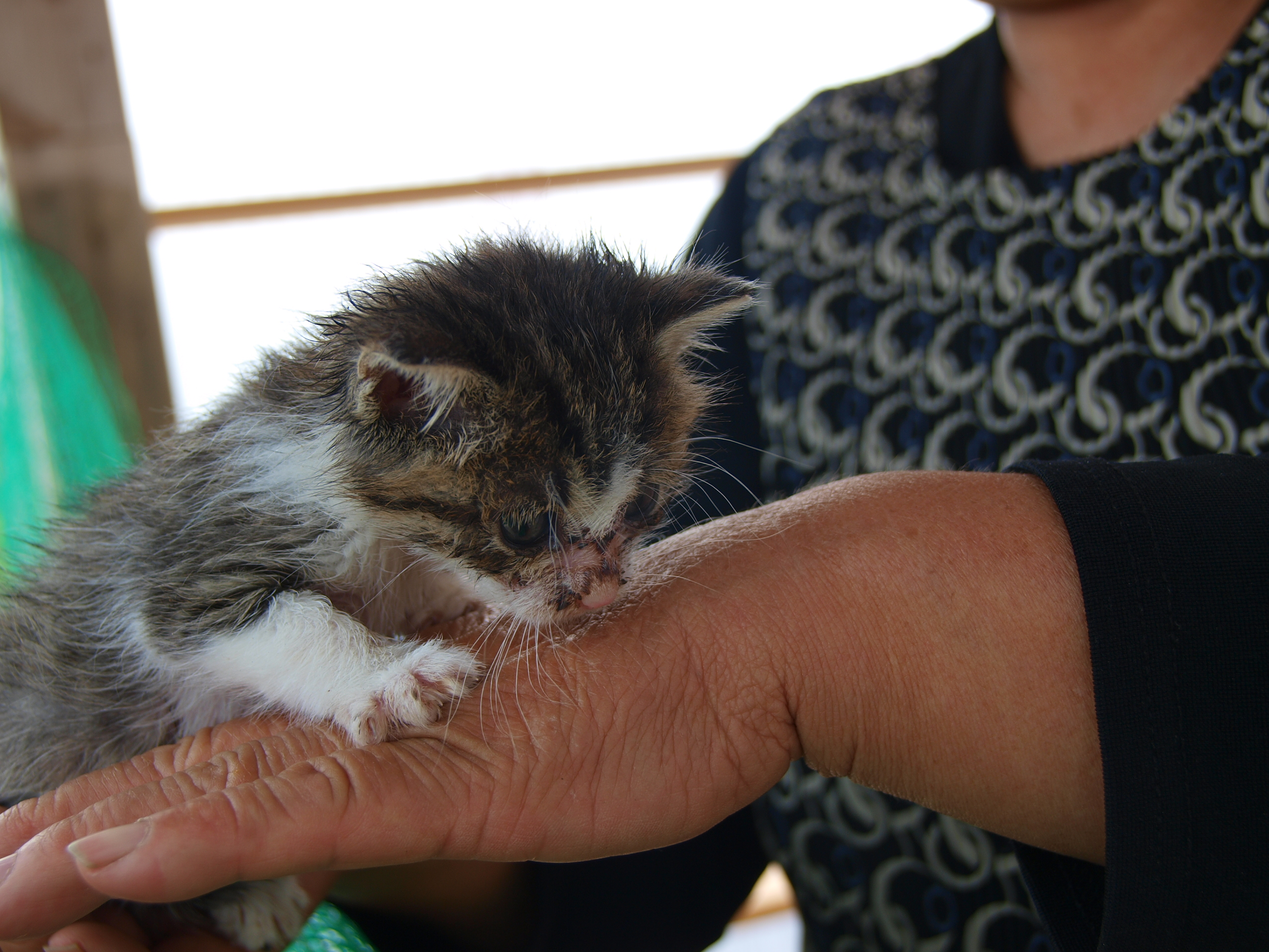cat: (0, 224, 802, 951)
